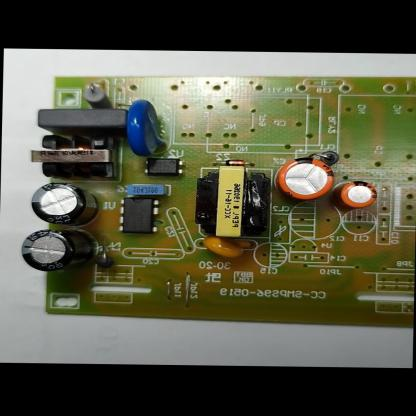Cap1: (277, 156, 334, 200)
Cap2: (339, 180, 378, 209)
Cap3: (28, 181, 102, 227)
Cap4: (20, 227, 98, 273)
MOSFET: (118, 196, 160, 233)
Mov: (124, 97, 167, 159)
Resistor: (78, 84, 117, 110)
Transformer: (192, 164, 276, 239), (28, 129, 122, 180)
